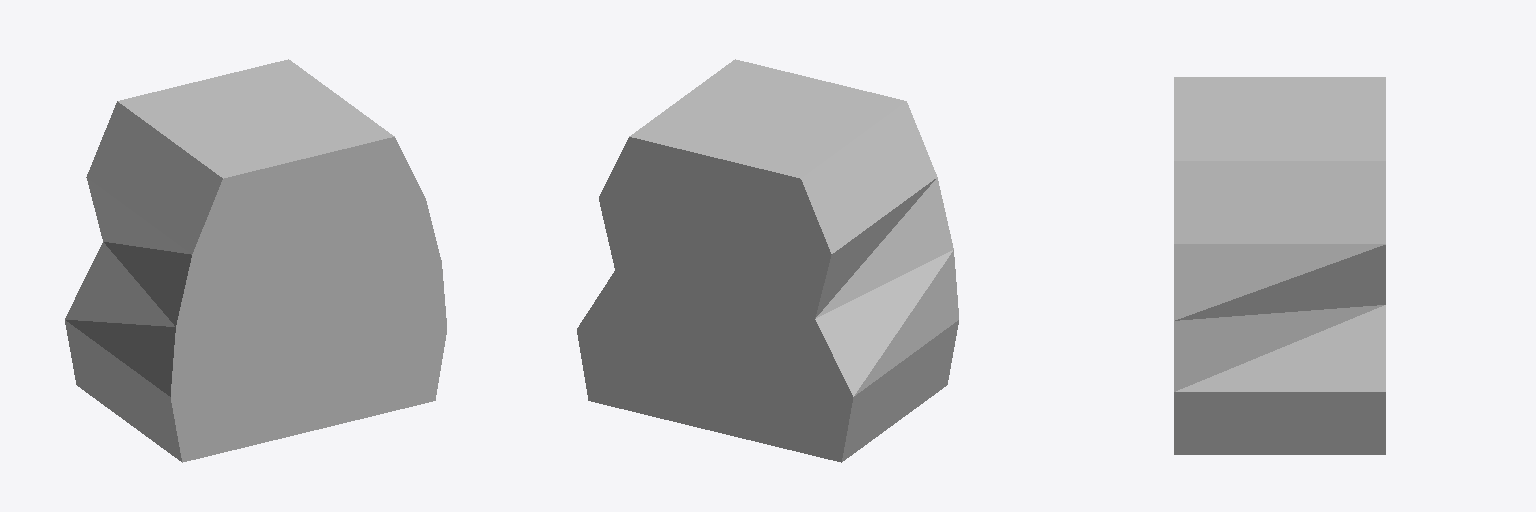
Rendered from pelvis.obj.
The picture shows the model from 3 angles: view 1: azimuth 30°, elevation 25°; view 2: azimuth 150°, elevation 25°; view 3: azimuth 270°, elevation 25°; orthographic projection.
Visible parts, largest first — view 1: geo__pelvis; view 2: geo__pelvis; view 3: geo__pelvis.
Boxes of the visible parts, x1,y1,x2,y2 form: geo__pelvis: [65, 59, 446, 462]; geo__pelvis: [577, 59, 958, 462]; geo__pelvis: [1174, 77, 1385, 454].
Size of the model in its own units: 5.29 by 5 by 3.5.